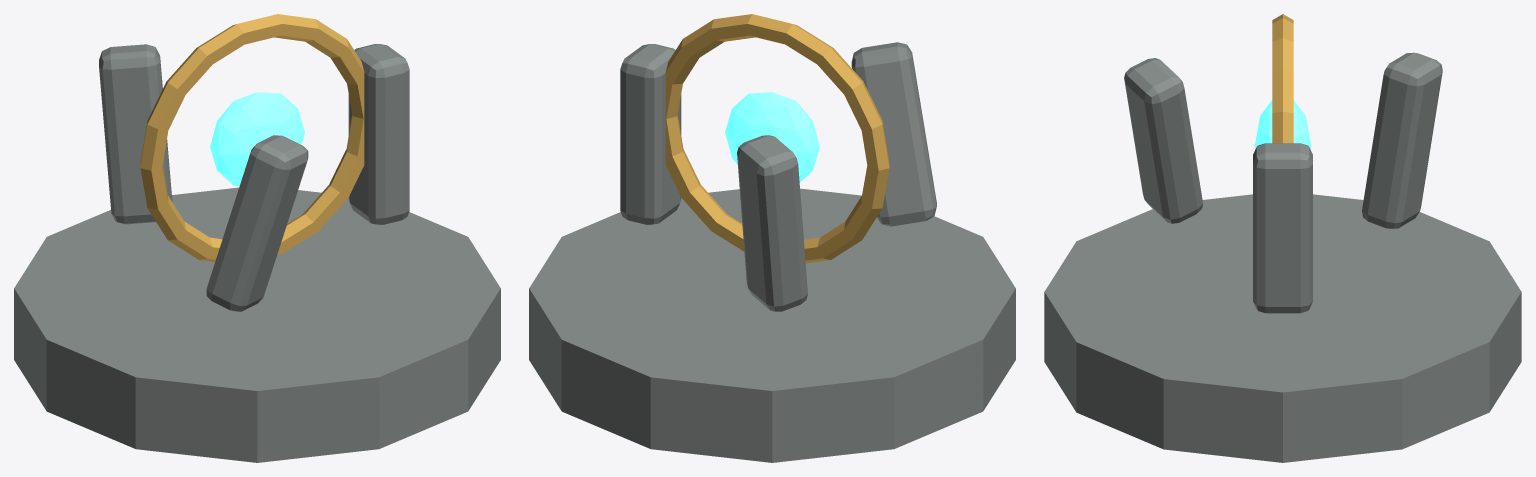
The model's file is waystone.glb.
3 renders of one model, left to right at view 1: azimuth 30°, elevation 25°; view 2: azimuth 150°, elevation 25°; view 3: azimuth 270°, elevation 25°, orthographic. The views are drawn at different scales.
Visible parts, largest first — view 1: StoneBase, LumenRing, StandingStone2, StandingStone0, StandingStone1, DormantCore; view 2: StoneBase, LumenRing, StandingStone1, StandingStone2, StandingStone0, DormantCore; view 3: StoneBase, StandingStone0, StandingStone1, StandingStone2, LumenRing, DormantCore.
Boxes of the visible parts, x1=… form: StoneBase: x1=14, y1=187, x2=500, y2=462; LumenRing: x1=140, y1=14, x2=364, y2=261; StandingStone2: x1=206, y1=135, x2=308, y2=311; StandingStone0: x1=348, y1=44, x2=409, y2=224; StandingStone1: x1=99, y1=44, x2=172, y2=224; DormantCore: x1=210, y1=92, x2=304, y2=185; StoneBase: x1=529, y1=188, x2=1015, y2=462; LumenRing: x1=665, y1=14, x2=889, y2=263; StandingStone1: x1=737, y1=135, x2=807, y2=311; StandingStone2: x1=851, y1=42, x2=936, y2=226; StandingStone0: x1=620, y1=44, x2=681, y2=224; DormantCore: x1=725, y1=92, x2=819, y2=182; StoneBase: x1=1044, y1=194, x2=1521, y2=462; StandingStone0: x1=1253, y1=143, x2=1312, y2=313; StandingStone1: x1=1362, y1=52, x2=1442, y2=228; StandingStone2: x1=1124, y1=58, x2=1203, y2=223; LumenRing: x1=1272, y1=14, x2=1293, y2=143; DormantCore: x1=1254, y1=100, x2=1311, y2=148.
Size of the model in its own units: 2.7 by 2.09 by 2.7.
